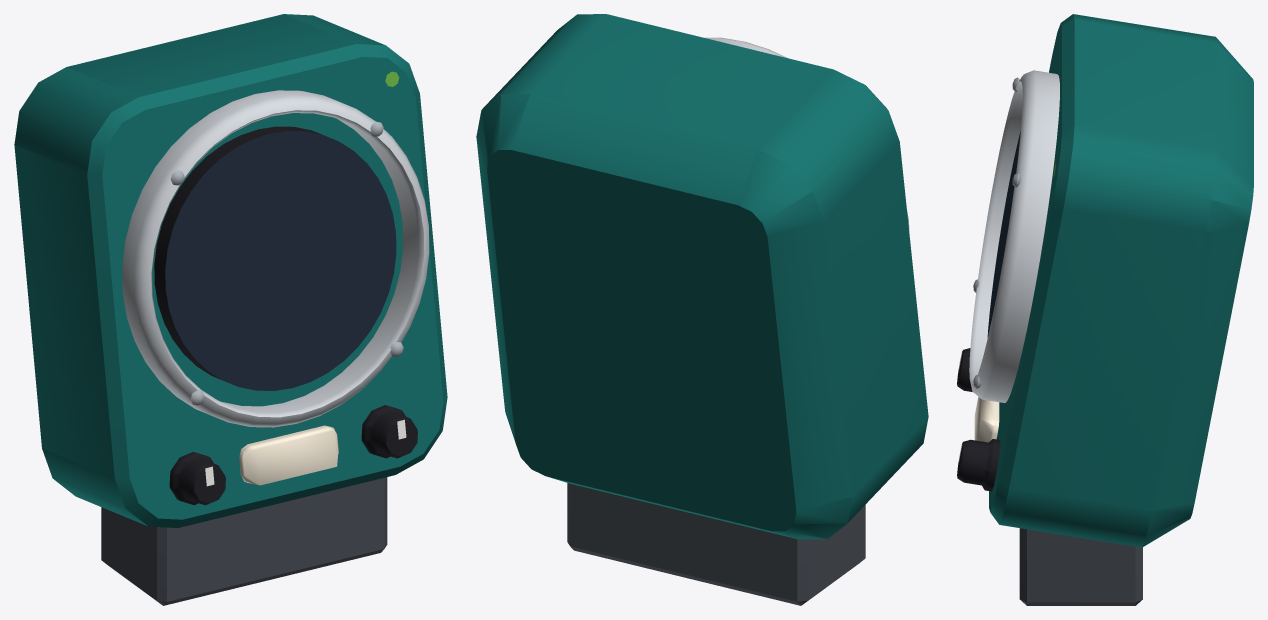
The model's file is CabinaRadar.fbx.
3 views of the same model, side by side, from view 1: azimuth 30°, elevation 25°; view 2: azimuth 150°, elevation 25°; view 3: azimuth 270°, elevation 25° (orthographic). The views are drawn at different scales.
Visible parts, largest first — view 1: CabinaRadar; view 2: CabinaRadar; view 3: CabinaRadar.
Part boxes in pixels (box(x1,y1,x2,y2)): CabinaRadar: box(14, 14, 447, 605); CabinaRadar: box(476, 14, 928, 605); CabinaRadar: box(957, 14, 1253, 605).
Bounding box in the file's own units: 1.04 × 1.47 × 0.819.
1 material, 1 textured.
